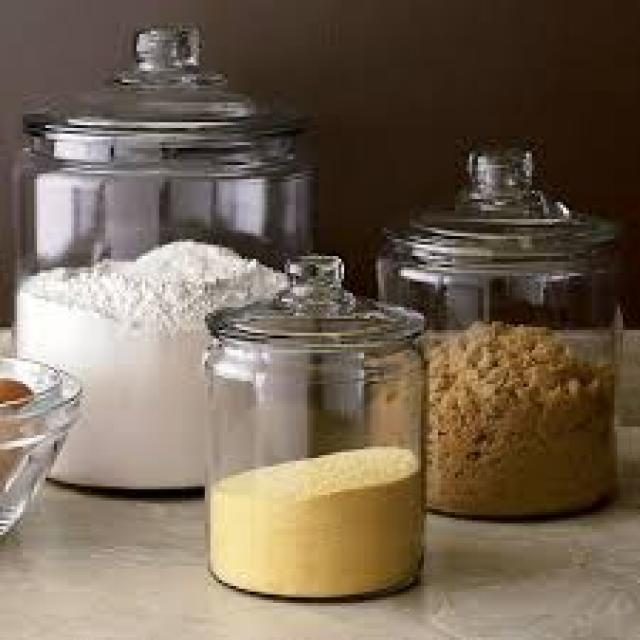organic waste: (17, 234, 302, 486), (381, 322, 612, 506), (208, 444, 418, 594), (0, 375, 34, 461)
